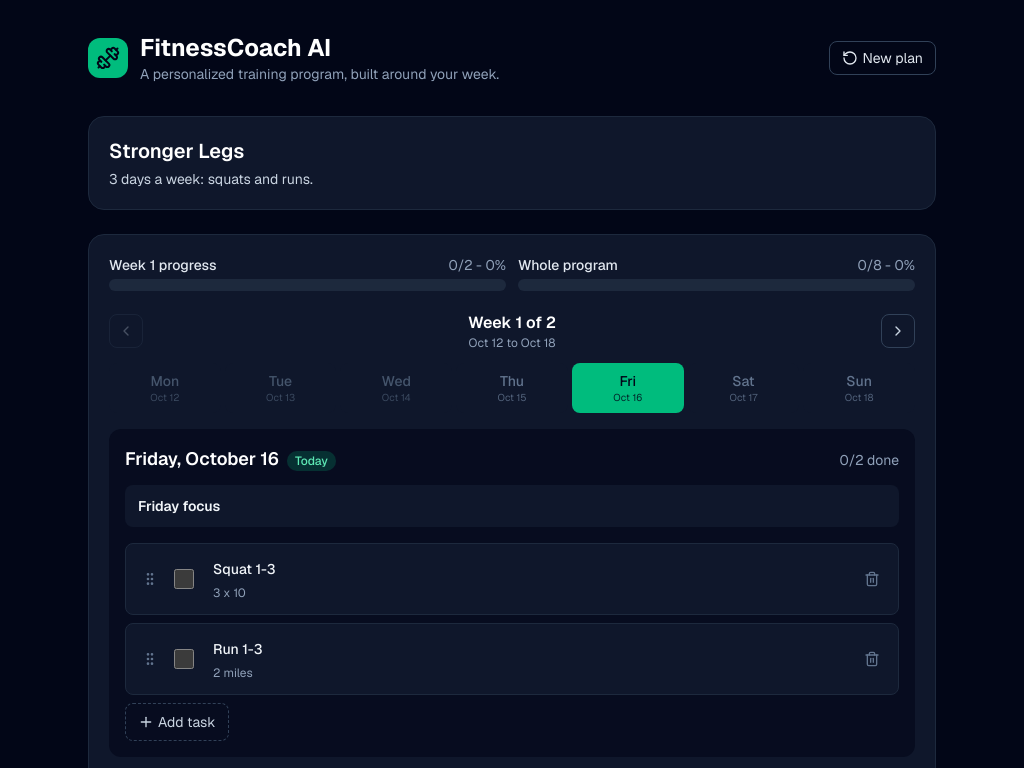
dashboard: Monday-to-Sunday weeks › always shows Mon to Sun for the week and greys out days before the start date
Expected: the heading "Stronger Legs" is shown, [109,138,244,164]
Expected: the text "Oct 12 to Oct 18" is shown, [468,335,556,351]
Click the button "Tue Oct 13". click: point(281, 388)
box: [225,363,336,413]
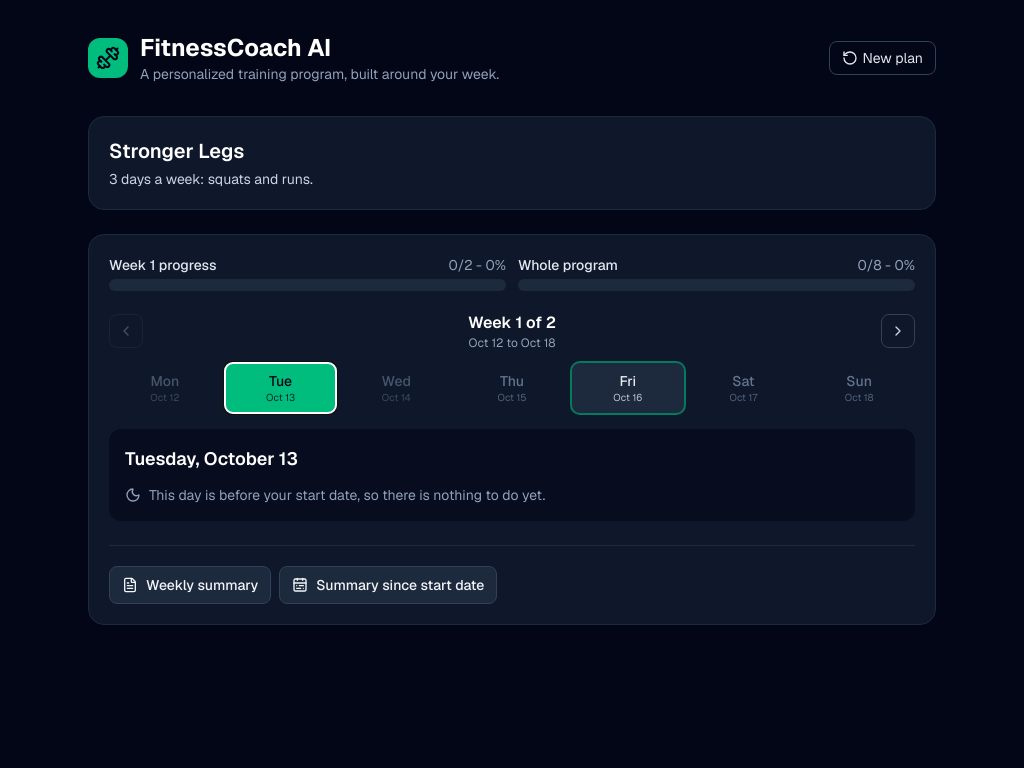
Expected: the text "before your start date, so there is nothing to do yet" is shown, [149,486,545,504]
